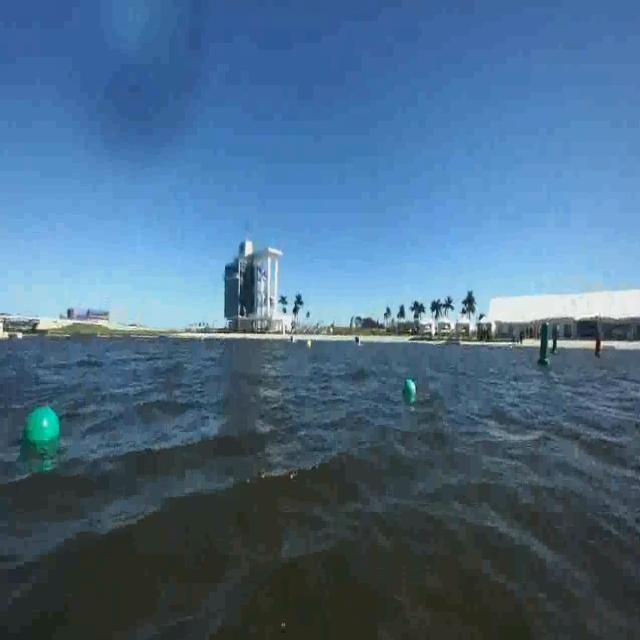green-buoy: (18, 403, 64, 457), (406, 379, 414, 394)
green-column-buoy: (535, 323, 551, 368), (551, 326, 561, 355)
yellow-buoy: (307, 338, 314, 352)
